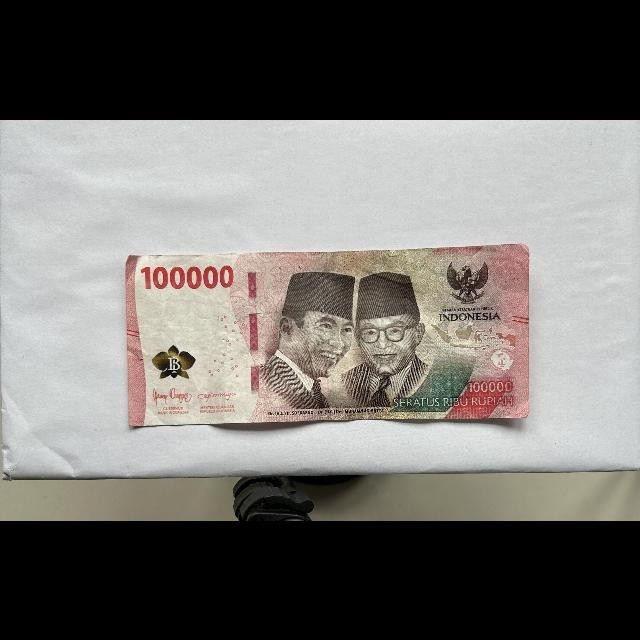Palsu-100k: (125, 241, 531, 427)
Tinta-Palsu-100k: (152, 344, 197, 379)
